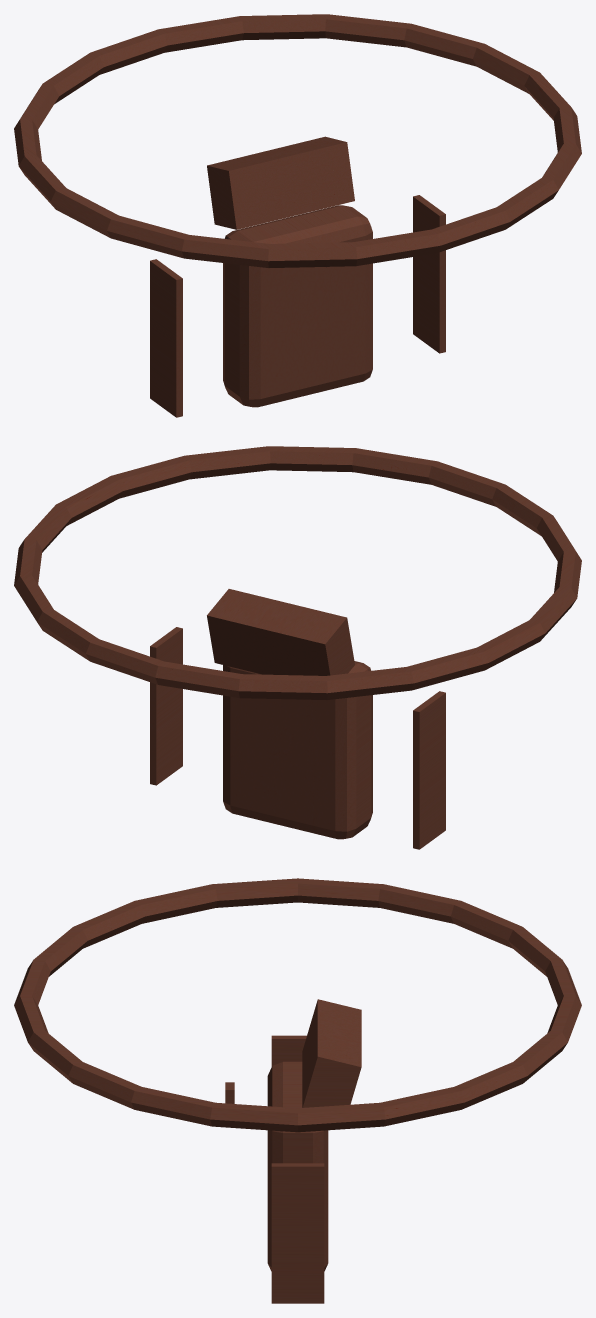
File: shoulder_bag.glb
The picture shows the model from 3 angles, top to bottom: view 1: azimuth 30°, elevation 25°; view 2: azimuth 150°, elevation 25°; view 3: azimuth 270°, elevation 25°; orthographic projection.
Parts seen in each view (by area): view 1: shoulder_bag; view 2: shoulder_bag; view 3: shoulder_bag.
Part boxes in pixels (bbox=[...]): shoulder_bag: bbox=[14, 14, 581, 417]; shoulder_bag: bbox=[14, 446, 581, 849]; shoulder_bag: bbox=[14, 878, 581, 1303].
Bounding box in the file's own units: 0.376 × 0.1869 × 0.376.
1 material, 1 textured.
